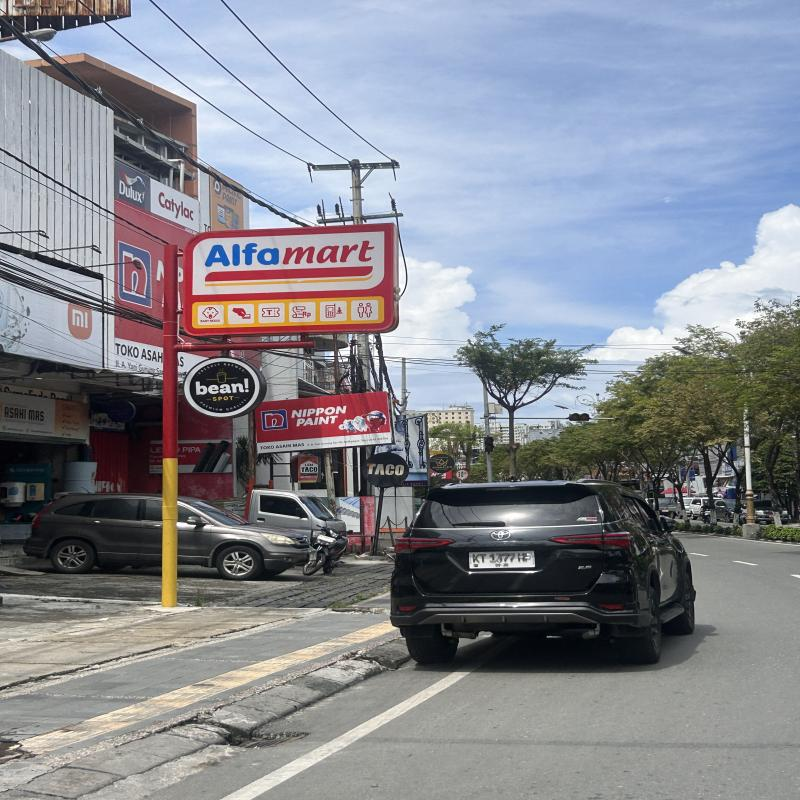license plate on a car: (469, 551, 535, 568)
